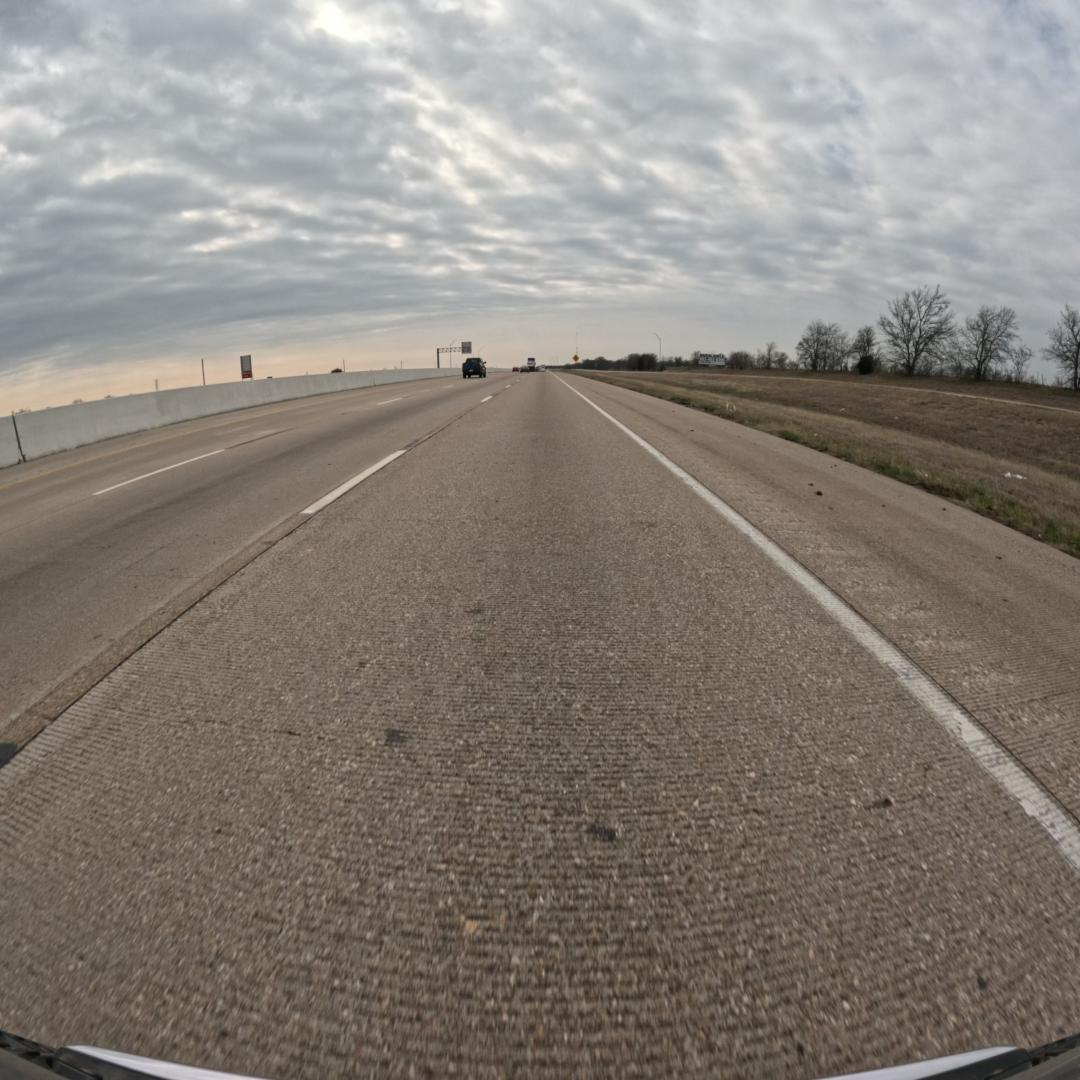lane0: (0, 375, 1080, 1077)
lane1: (0, 376, 509, 764)
